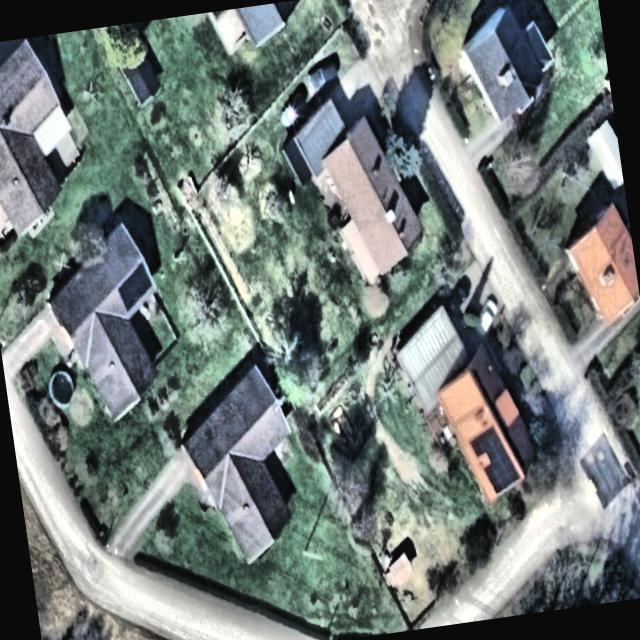roof_pv: (467, 420, 524, 501), (112, 260, 159, 316)
